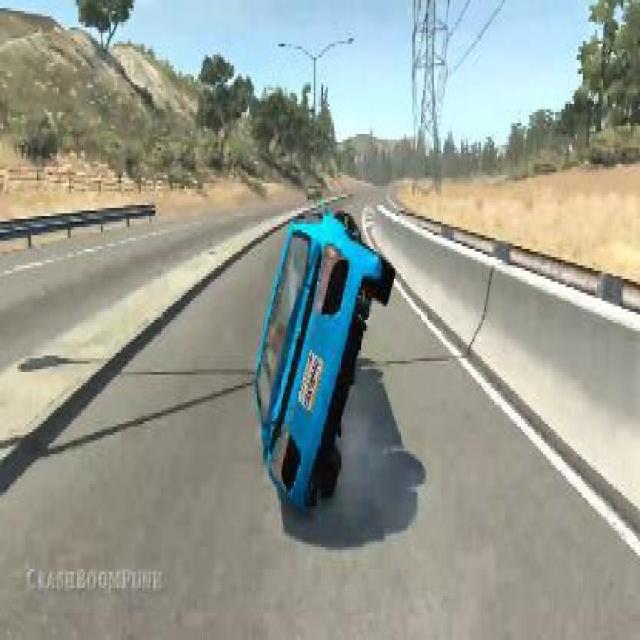accident: (252, 194, 397, 520)
